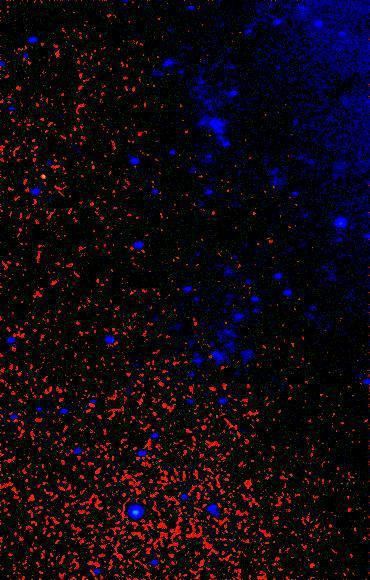star: (28, 159, 58, 189)
